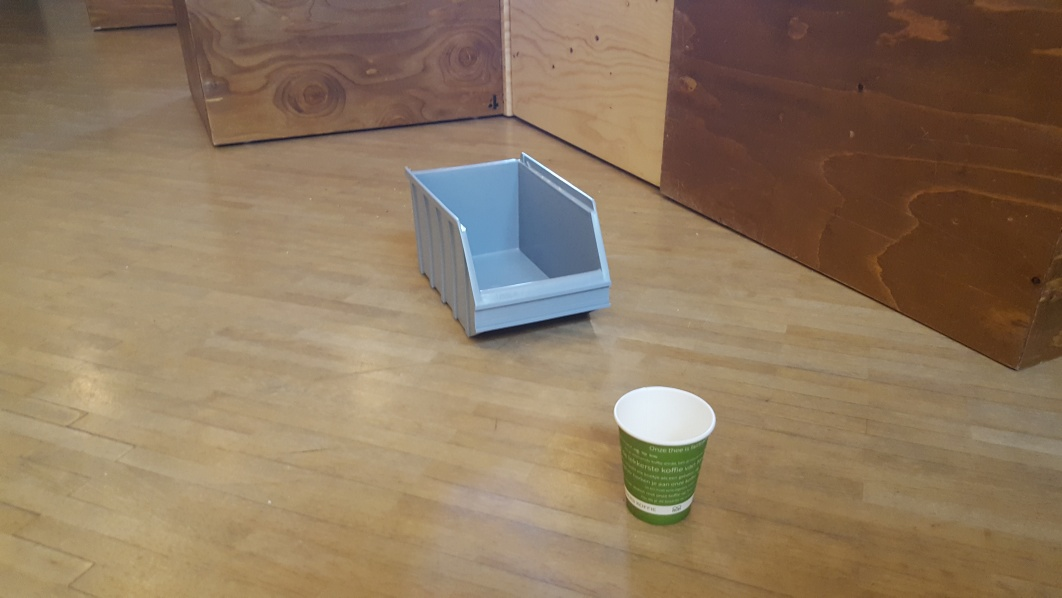cup: (615, 385, 718, 528)
tray: (403, 153, 615, 337)
